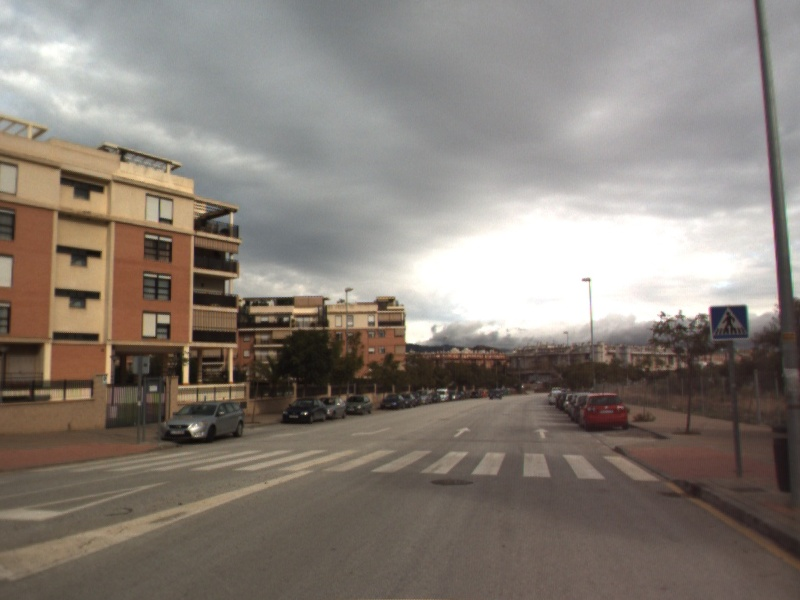STRAIGHT: (452, 425, 473, 439), (532, 426, 551, 440)
